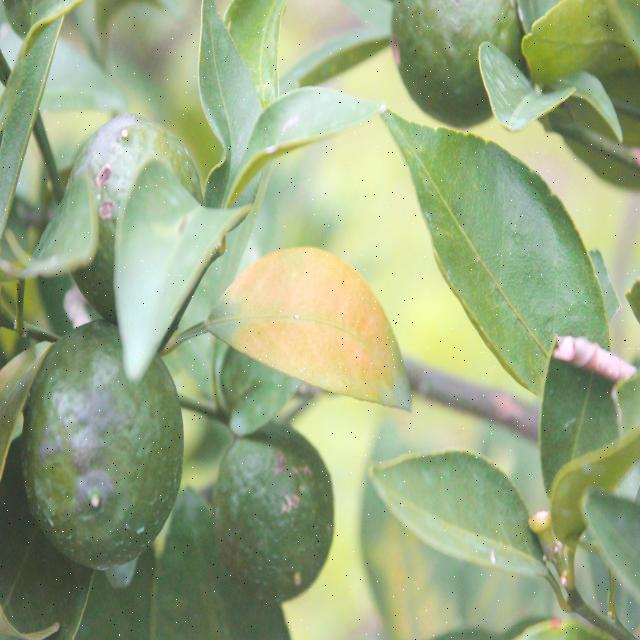greening: (226, 248, 407, 406)
